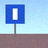sign: (6, 4, 24, 38)
